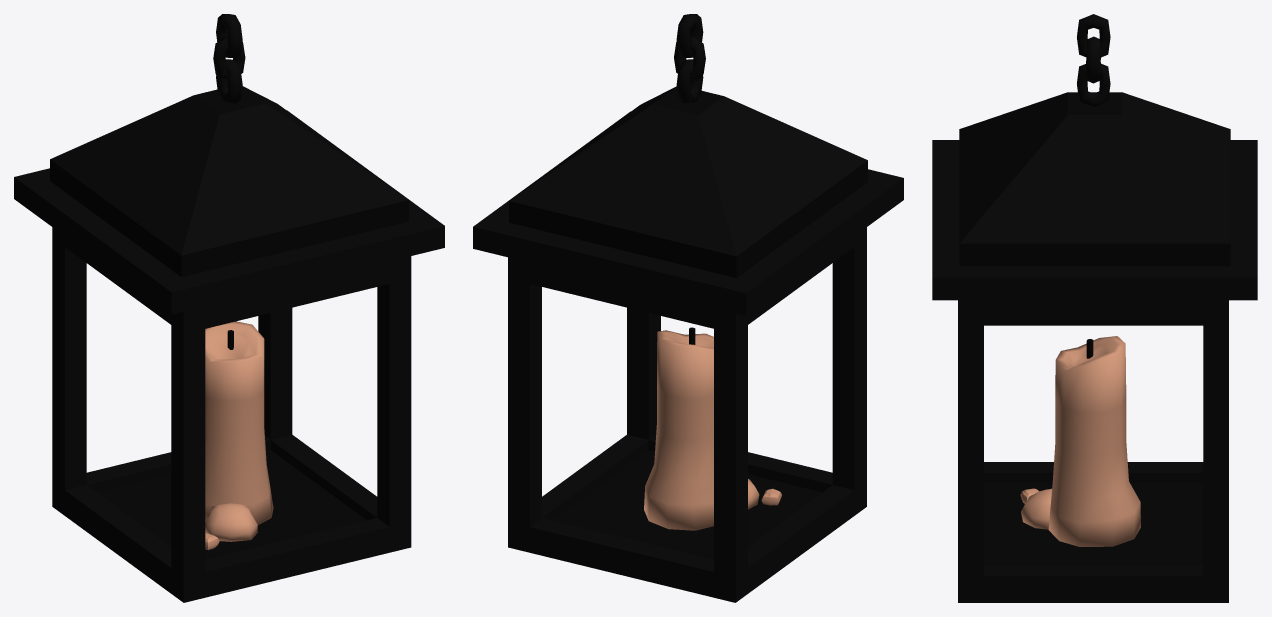
Rendered from Lamp01.fbx.
The picture shows the model from 3 angles, left to right: view 1: azimuth 30°, elevation 25°; view 2: azimuth 150°, elevation 25°; view 3: azimuth 270°, elevation 25°; orthographic projection. The views are drawn at different scales.
Visible parts, largest first — view 1: Lamp01; view 2: Lamp01; view 3: Lamp01.
Part boxes in pixels (left/top/right/bottom): Lamp01: left=14, top=14, right=444, bottom=602; Lamp01: left=473, top=14, right=903, bottom=602; Lamp01: left=932, top=14, right=1257, bottom=602.
Bounding box in the file's own units: 12 × 21.57 × 12.
